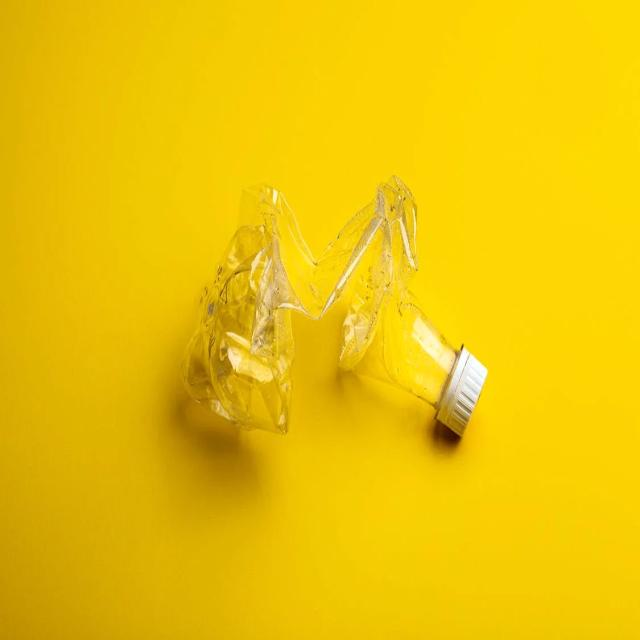Plastic: (176, 166, 491, 446)
